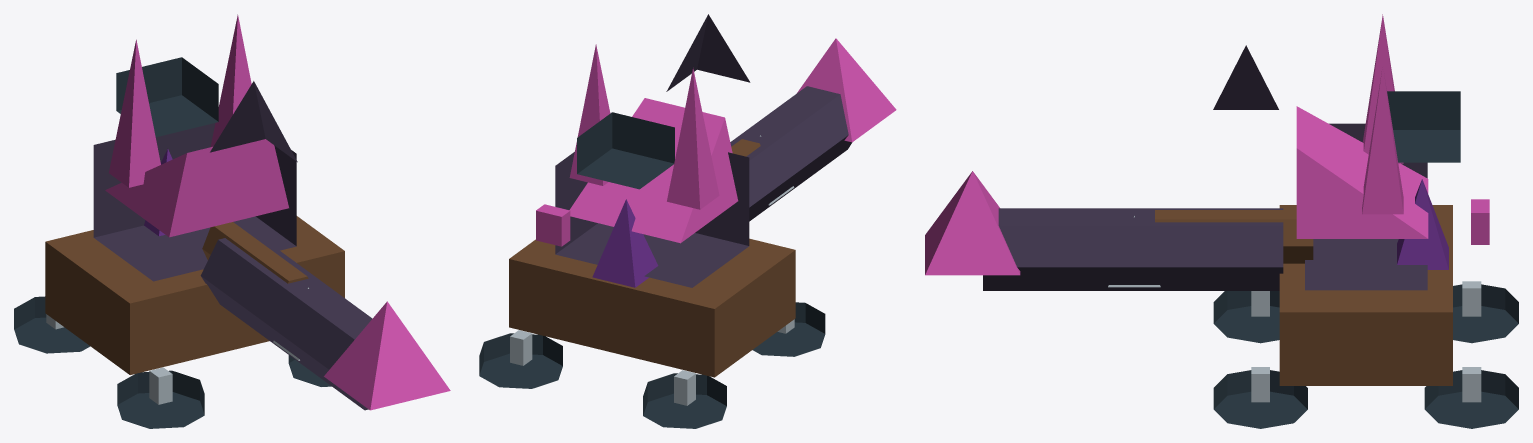
The model's file is battering-ram.obj.
The picture shows the model from 3 angles, left to right: view 1: azimuth 30°, elevation 25°; view 2: azimuth 150°, elevation 25°; view 3: azimuth 270°, elevation 25°; orthographic projection. The views are drawn at different scales.
Parts seen in each view (by area): view 1: siege; view 2: siege; view 3: siege.
Boxes of the visible parts, bbox=[...] form: siege: bbox=[14, 14, 450, 428]; siege: bbox=[479, 14, 896, 428]; siege: bbox=[925, 14, 1518, 428].
Size of the model in its own units: 1.42 by 1.74 by 2.87.
